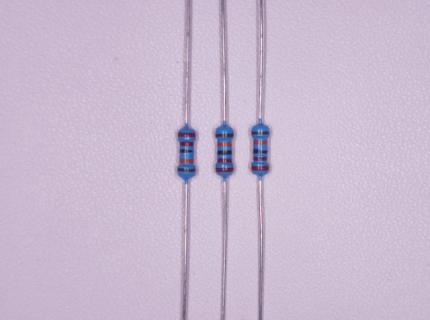Black band: (253, 149, 268, 154), (180, 149, 194, 153), (218, 151, 232, 155)
Brown band: (178, 168, 195, 172), (252, 131, 269, 135), (216, 134, 233, 137)
Orange band: (253, 140, 268, 145), (180, 158, 194, 163), (218, 142, 231, 147)
Red band: (252, 166, 269, 171), (216, 168, 234, 172), (218, 158, 232, 163), (178, 133, 195, 137), (180, 142, 194, 146), (253, 156, 267, 160)
